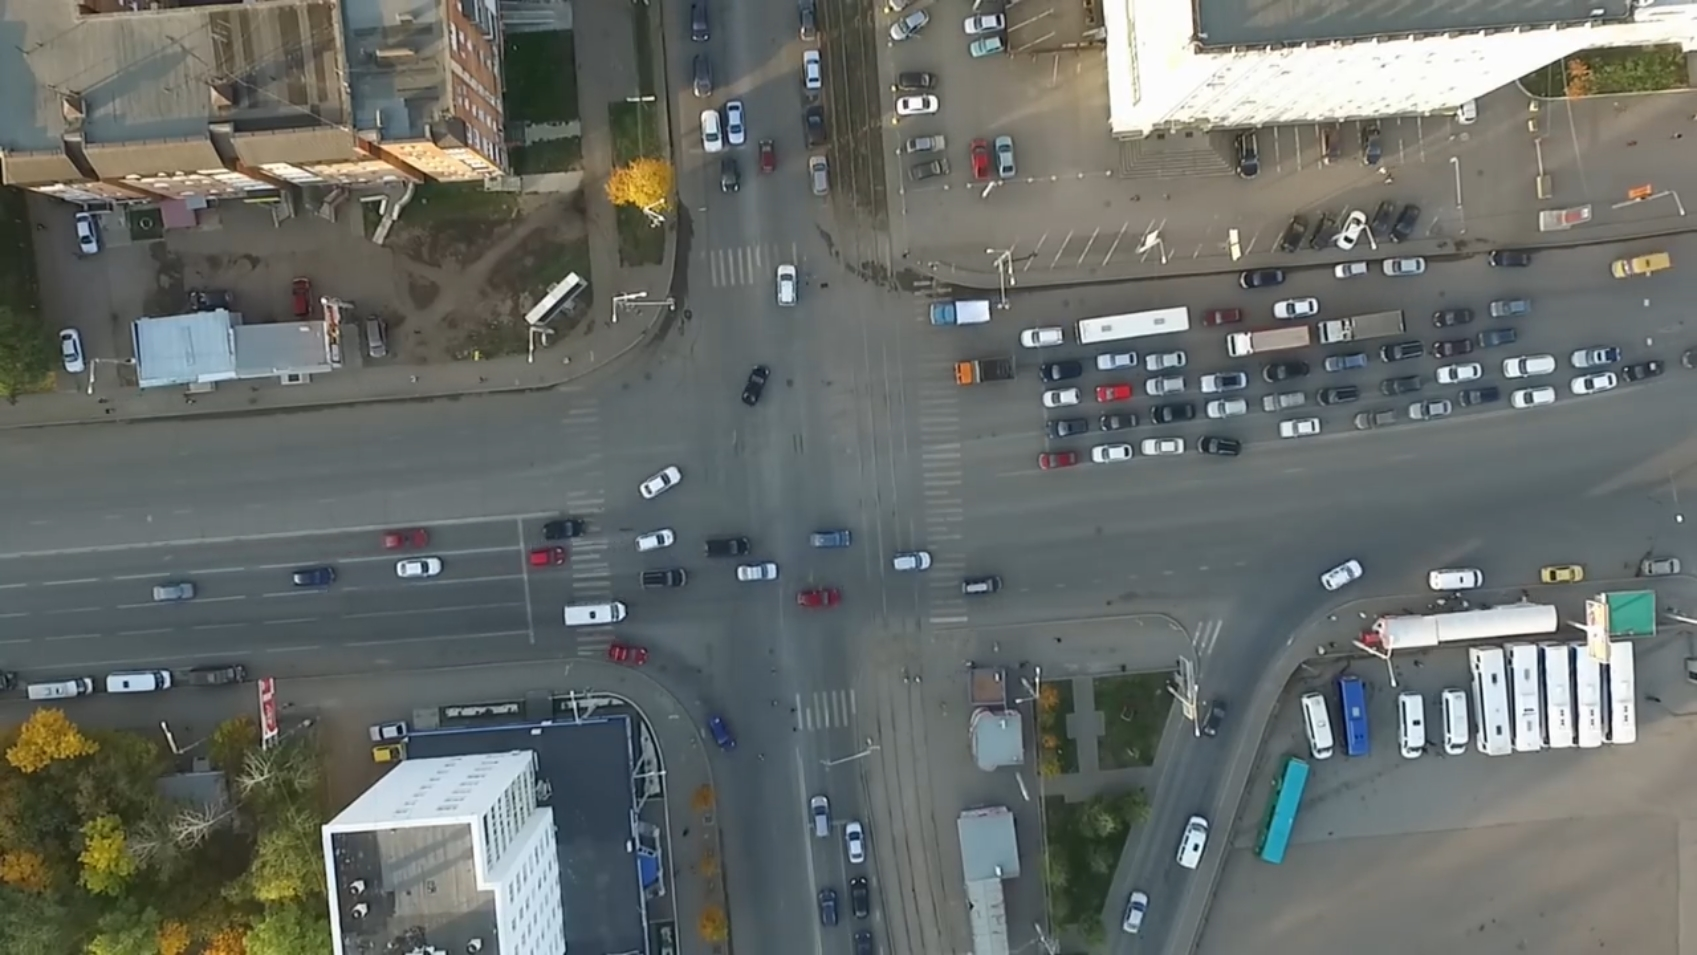car: (1467, 644, 1514, 757), (1068, 306, 1197, 342), (1504, 640, 1544, 752), (1536, 642, 1575, 747), (1599, 645, 1639, 745), (1317, 311, 1411, 345), (1571, 641, 1601, 745), (1339, 674, 1373, 759), (1225, 326, 1311, 357), (1395, 689, 1431, 761), (1296, 694, 1338, 756), (1608, 251, 1673, 283), (103, 666, 176, 694), (927, 299, 997, 326), (1441, 686, 1469, 754), (883, 9, 936, 45), (953, 354, 1018, 384), (1175, 814, 1207, 871), (638, 462, 684, 500), (1425, 566, 1485, 594), (1500, 351, 1558, 379), (184, 662, 245, 689), (1233, 131, 1266, 180), (24, 679, 100, 700), (1319, 559, 1365, 594), (740, 360, 772, 410), (564, 603, 631, 626), (605, 639, 654, 670), (697, 106, 728, 155), (390, 554, 444, 581), (1319, 125, 1349, 174), (1379, 252, 1429, 280), (1013, 325, 1066, 351), (1508, 384, 1559, 410), (1569, 344, 1622, 370), (1570, 370, 1621, 396), (362, 315, 392, 361), (629, 524, 676, 553), (540, 517, 591, 542), (1538, 560, 1590, 585), (56, 330, 86, 373), (690, 55, 718, 101), (1360, 125, 1389, 169), (1477, 323, 1525, 350), (1335, 208, 1365, 250), (1120, 891, 1149, 934), (1260, 389, 1311, 414), (800, 103, 828, 147), (1196, 431, 1241, 458), (73, 212, 101, 255), (1323, 351, 1372, 375), (962, 10, 1011, 35), (1235, 266, 1287, 289), (1038, 357, 1085, 382), (1274, 415, 1325, 438), (1281, 212, 1309, 254), (1090, 442, 1138, 466), (1407, 395, 1455, 420), (774, 260, 798, 308), (1149, 401, 1199, 424), (816, 889, 846, 927), (1393, 201, 1420, 244), (888, 550, 932, 576), (381, 531, 429, 554), (1435, 361, 1485, 384), (364, 719, 414, 742), (1270, 299, 1321, 321), (969, 136, 994, 180), (1197, 697, 1224, 738), (1093, 349, 1140, 372), (153, 580, 199, 603), (895, 69, 939, 93), (1034, 449, 1085, 470), (1090, 380, 1135, 403), (524, 545, 570, 568), (1200, 304, 1248, 326), (1140, 435, 1188, 457), (966, 35, 1009, 59), (1197, 374, 1256, 392), (1485, 247, 1531, 269), (895, 93, 944, 114), (293, 564, 338, 587), (808, 153, 830, 198), (733, 560, 779, 582), (1368, 197, 1392, 240), (1432, 335, 1476, 358), (1378, 340, 1425, 361), (1378, 375, 1425, 396), (808, 527, 855, 548), (1490, 296, 1530, 321), (707, 717, 737, 751), (1263, 360, 1310, 381), (1353, 408, 1400, 429), (810, 796, 831, 843), (801, 51, 825, 91), (1043, 385, 1080, 410), (851, 876, 873, 919), (706, 538, 749, 560), (641, 570, 686, 591), (1140, 375, 1188, 395), (725, 97, 745, 145), (293, 275, 314, 319), (1431, 308, 1476, 329), (1097, 412, 1143, 431), (1204, 399, 1251, 419), (1456, 387, 1502, 407), (1619, 360, 1666, 380), (1639, 556, 1682, 577), (1314, 210, 1336, 251), (909, 159, 955, 178), (1044, 417, 1090, 437), (997, 135, 1018, 177), (1318, 384, 1360, 405), (369, 744, 411, 765), (1145, 350, 1189, 370), (902, 134, 948, 153), (798, 589, 844, 608), (962, 576, 1004, 596), (721, 155, 741, 195), (1330, 260, 1369, 279), (797, 7, 816, 45), (758, 139, 777, 175), (691, 1, 709, 42), (846, 822, 862, 862), (853, 929, 876, 955), (1458, 99, 1478, 125), (1680, 347, 1697, 370)
